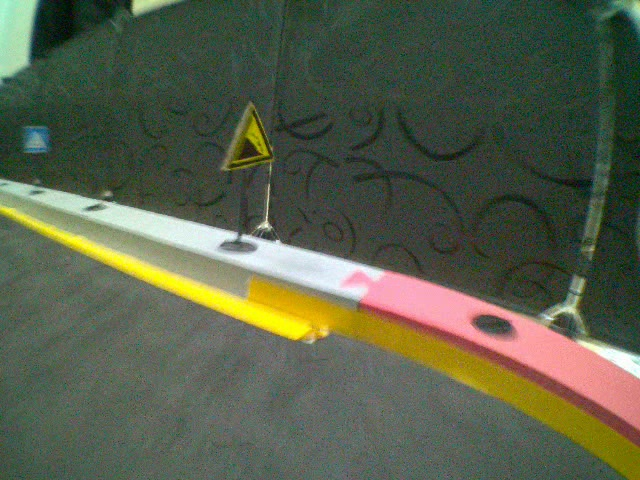crossing: (23, 124, 49, 154)
fast: (218, 98, 278, 171)
